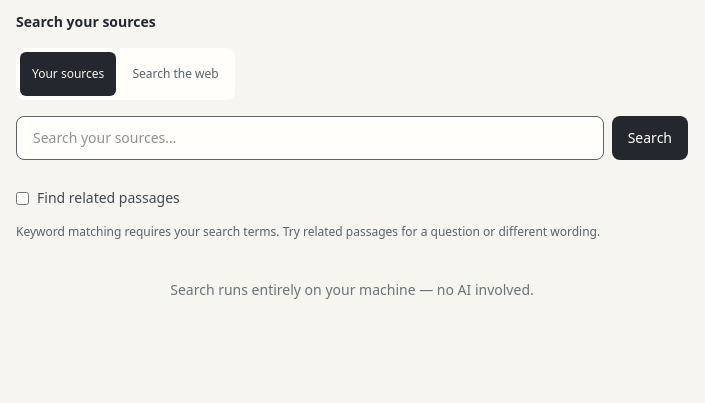
clears source results when sourcesVersion changes (source deleted)
In the search field with placeholder "Search your sources…": (310, 138) x1=16 y1=116 x2=604 y2=160, type "passage"
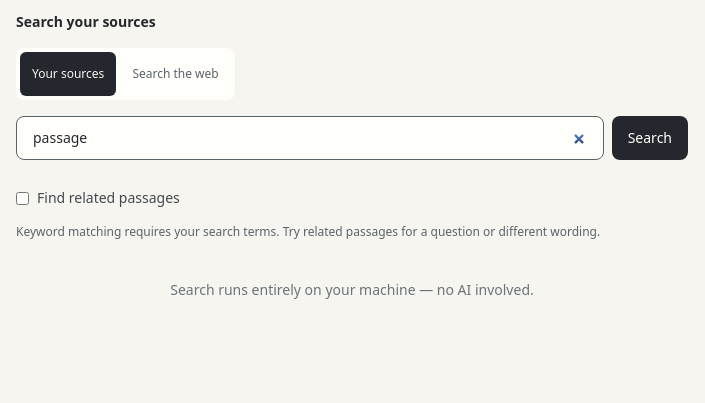
Click the button with aria-label "submit search": (650, 138) x1=612 y1=116 x2=688 y2=160
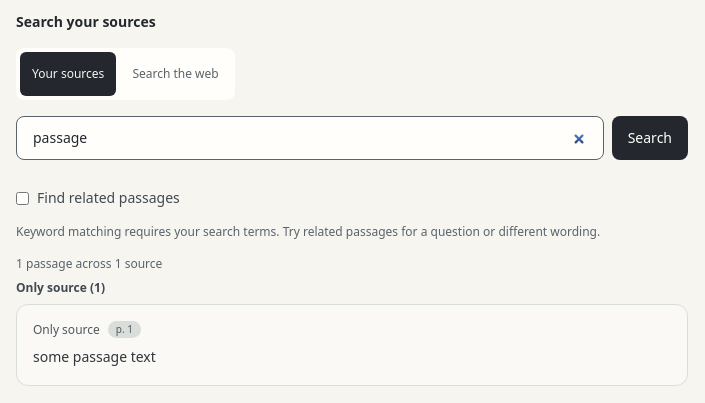
Check: the message named "Search result count" is shown, box x1=16 y1=255 x2=162 y2=272
